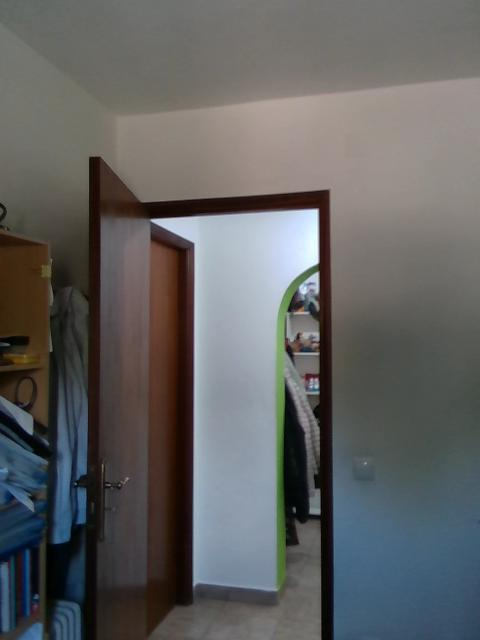open_door: (136, 186, 330, 639)
